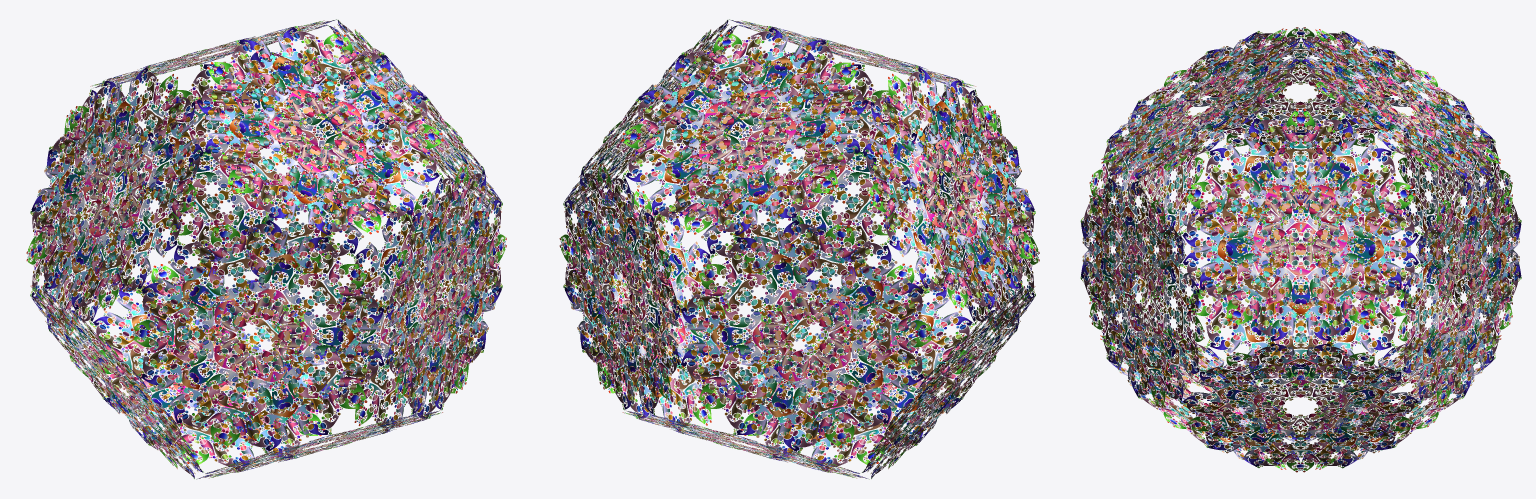
The model's file is Dodecahedron12.obj.
3 views of the same model, side by side, from view 1: azimuth 30°, elevation 25°; view 2: azimuth 150°, elevation 25°; view 3: azimuth 270°, elevation 25° (orthographic). The views are drawn at different scales.
Size of the model in its own units: 2.62 by 2.62 by 2.62.
Materials: 1 (1 with a texture image).
